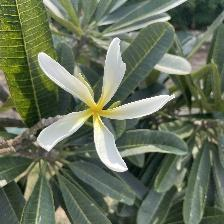champaka: (36, 35, 178, 175)
